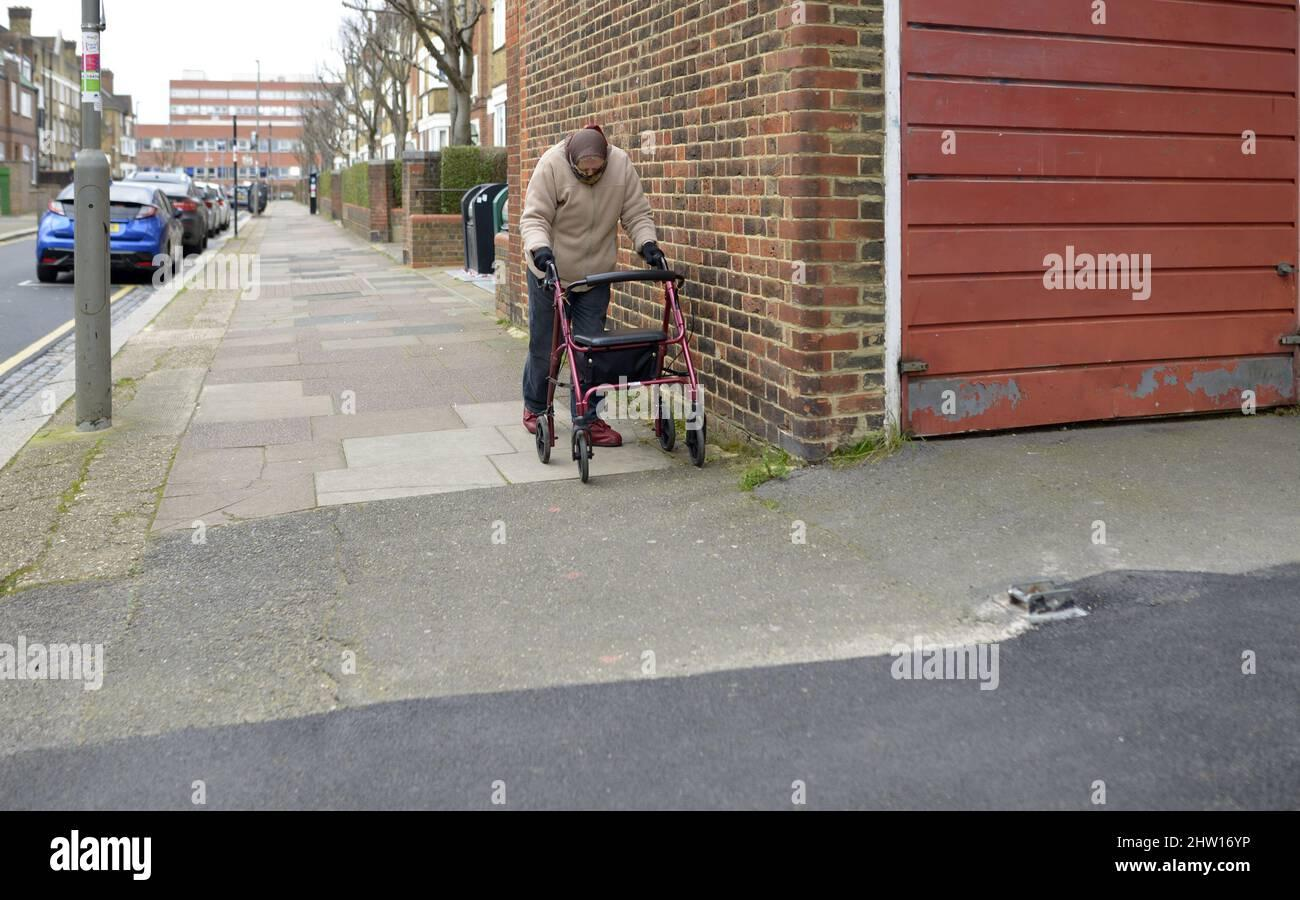walking_frame: (518, 126, 705, 481)
